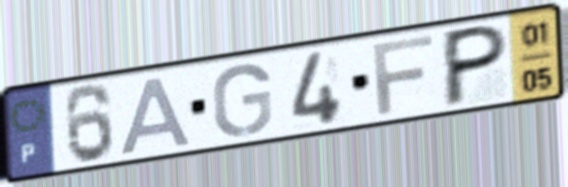4: (288, 47, 345, 129)
6: (62, 81, 117, 168)
A: (117, 73, 196, 158)
F: (369, 32, 436, 117)
G: (210, 61, 275, 139)
P: (440, 21, 512, 111)
